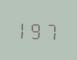nine: (32, 19, 44, 40)
one: (18, 19, 30, 39)
seven: (45, 20, 57, 40)
